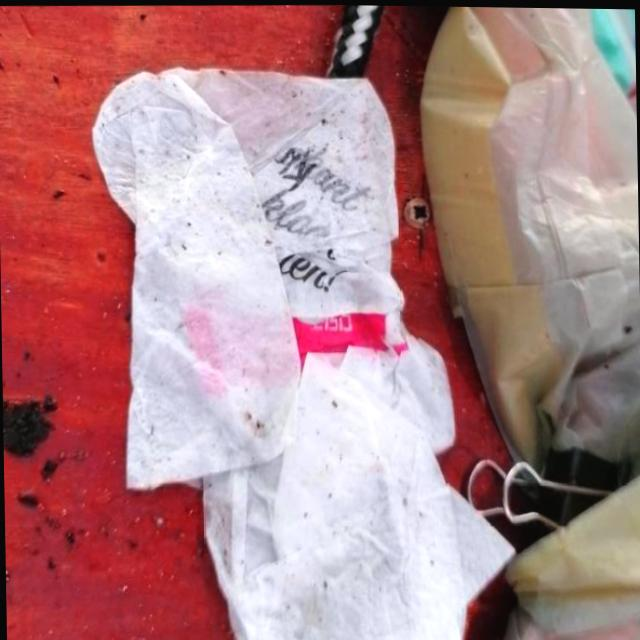Paper: (87, 57, 519, 640)
